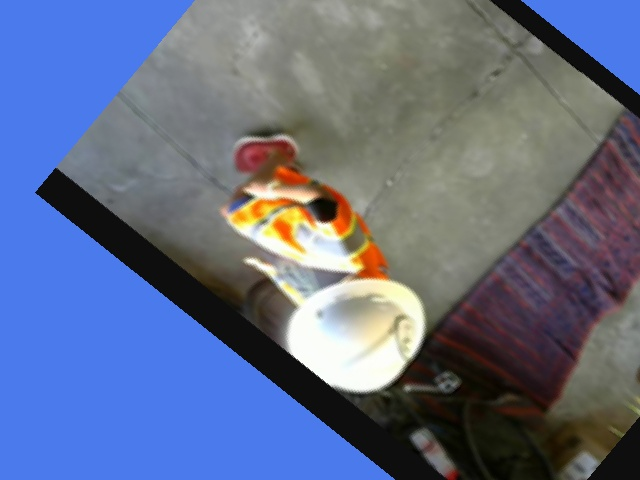three: (381, 312, 431, 363)
